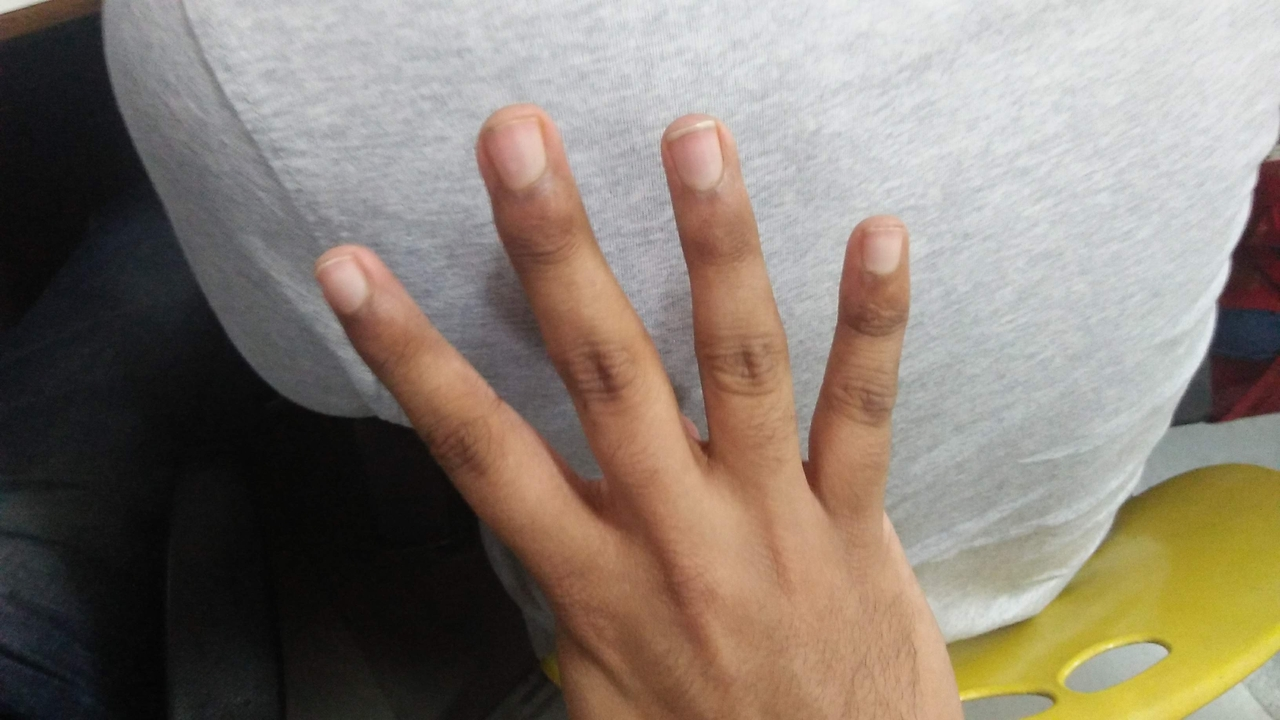fingertip: (460, 106, 568, 182), (299, 239, 387, 318), (646, 114, 746, 180), (838, 210, 918, 282)
